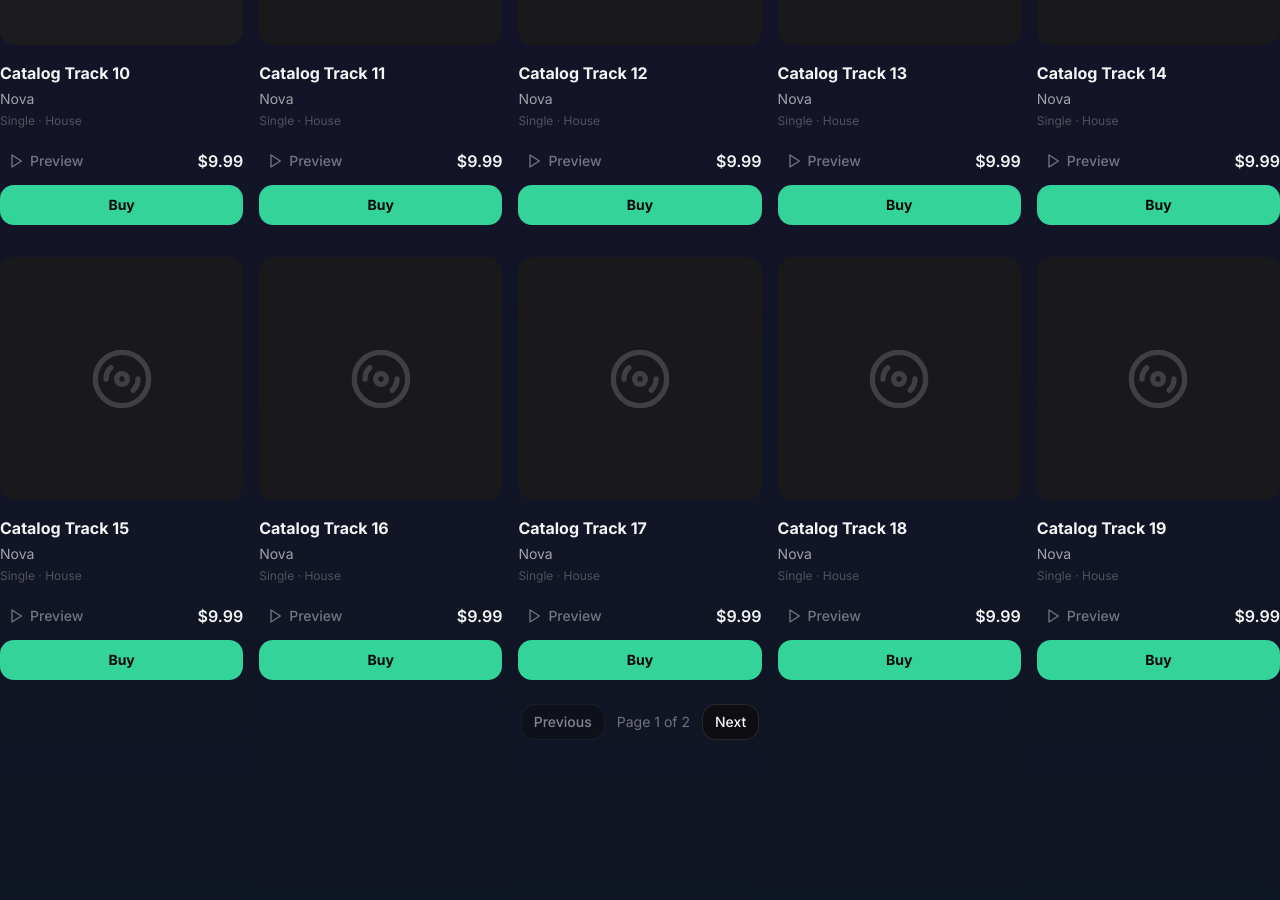
Scenario: MusicOverviewView › makes every live release reachable through search, genre, and pagination
This screenshot has width=1280, height=900.
(page scrolled)
Expected: the text "Page 1 of 2" is shown, [617,712,690,732]
Expected: the text "Deep Cut" is not shown
Click the button "Next" at (731, 722), box [702,704,759,740]
(page scrolled)
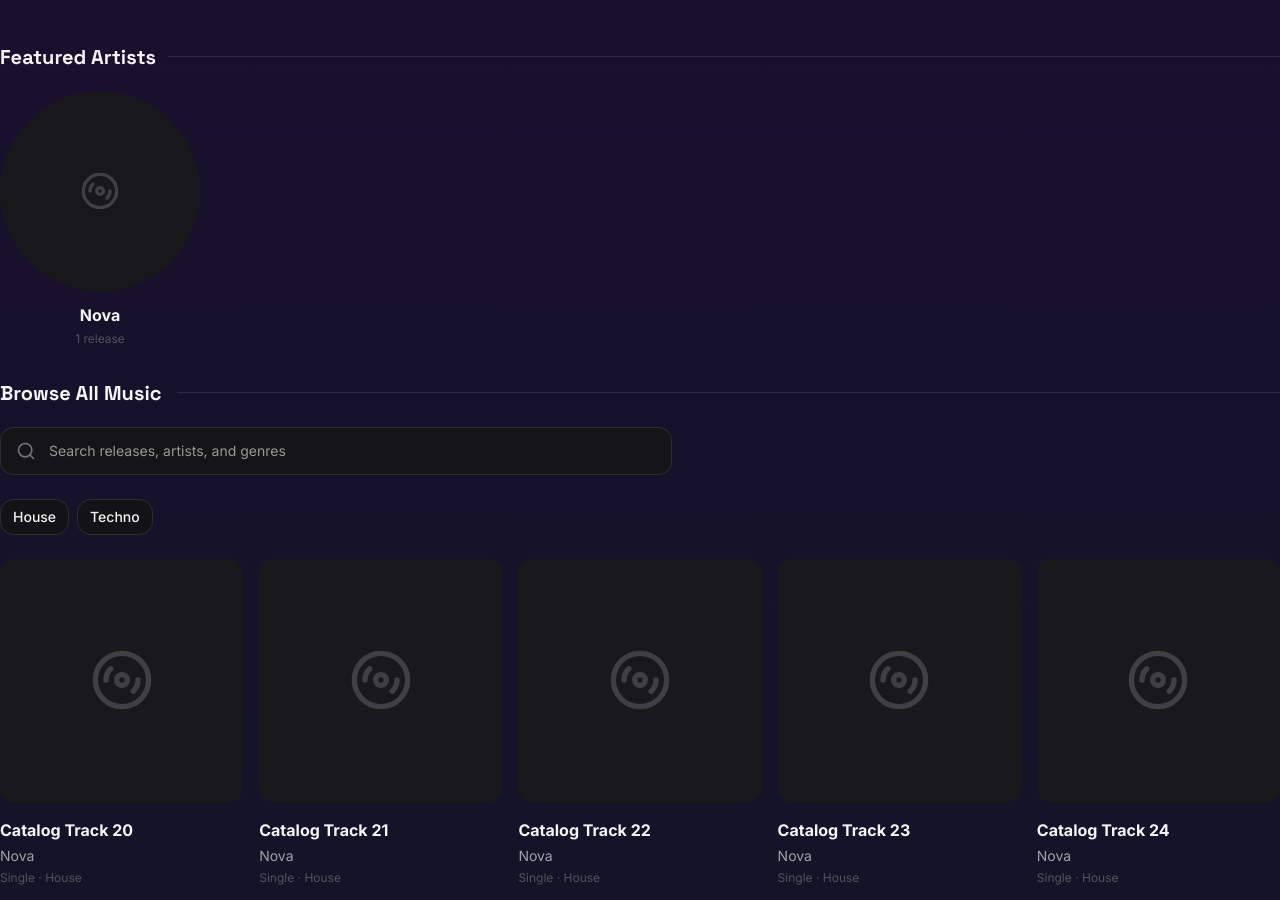
Type "deep" into the field named "Search all music" at (336, 451), box [0,427,672,475]
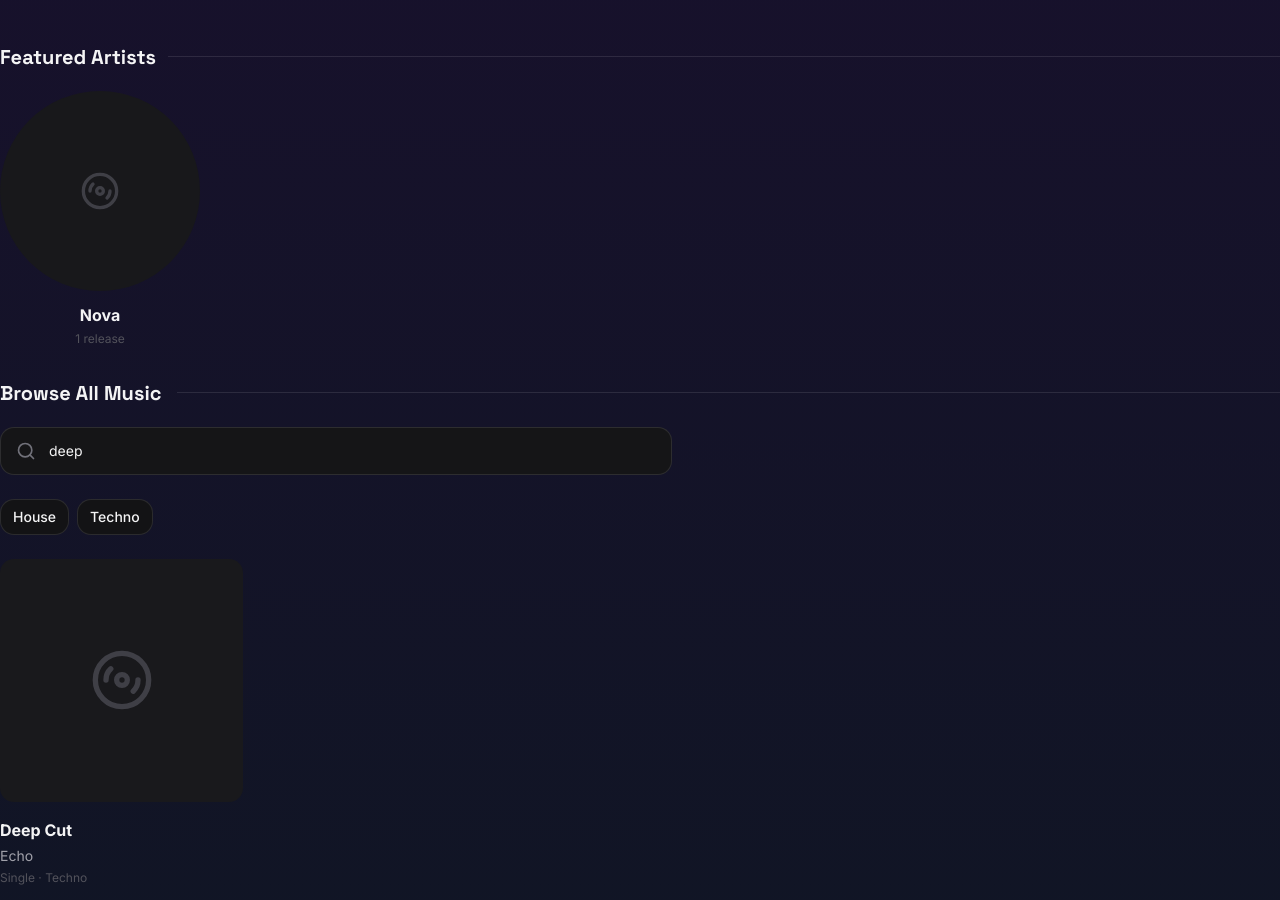
Expected: the text "Catalog Track 0" is not shown
Now the link "Deep Cut" is shown, box [0,820,72,840]
Clear the field named "Search all music" at (336, 451), box [0,427,672,475]
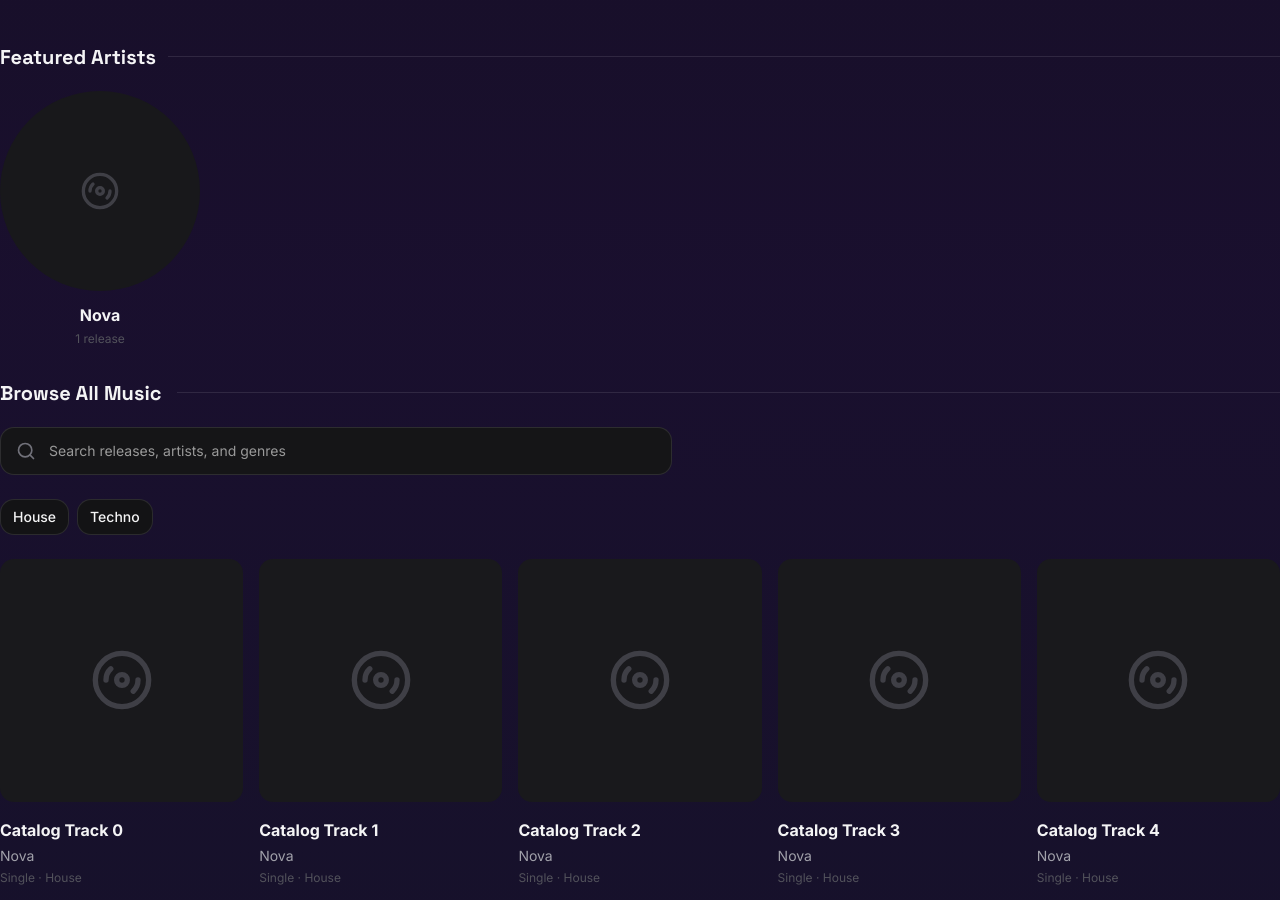
Click the button "Techno" at (115, 517), box [77,499,153,535]
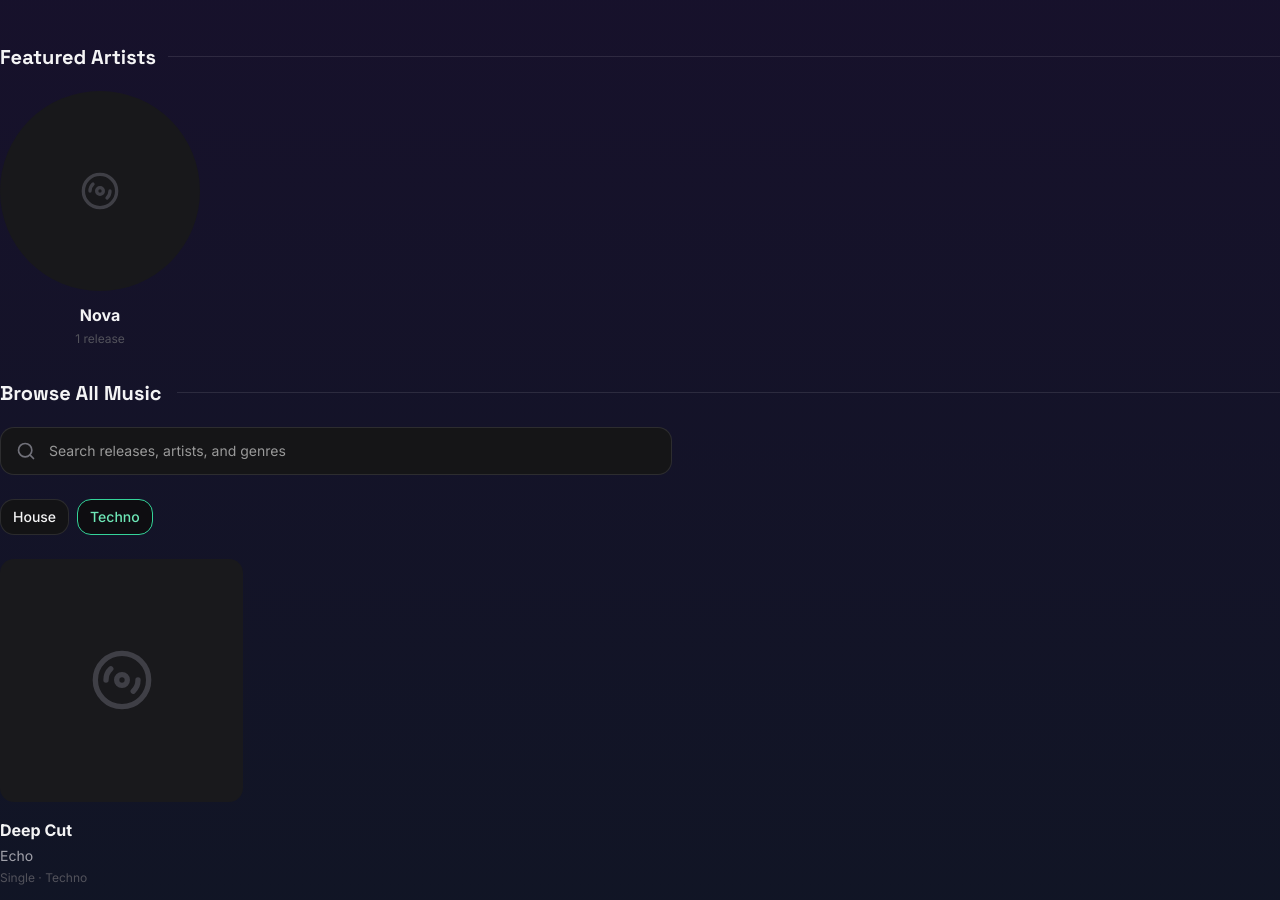
Now the link "Deep Cut" is shown, box [0,820,72,840]
Now the link "Catalog Track 0" is gone
